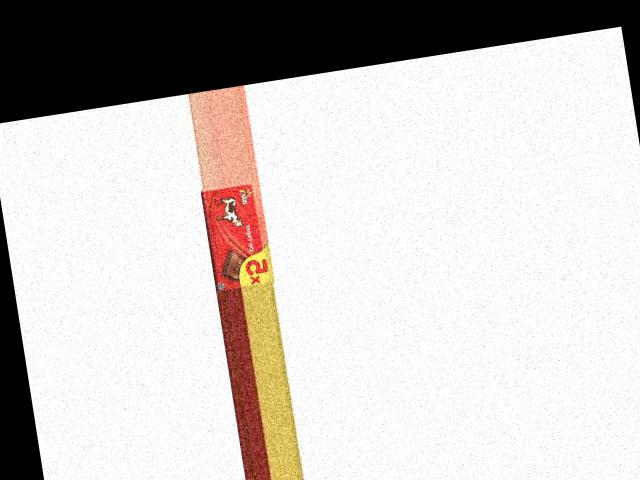chocolate: (200, 178, 276, 291)
